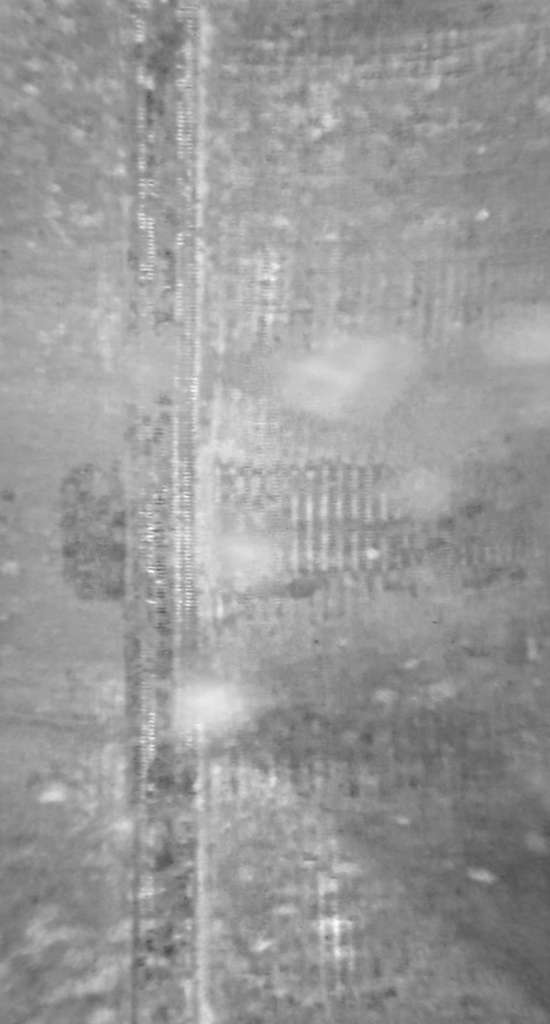splice: (127, 1, 202, 1024)
